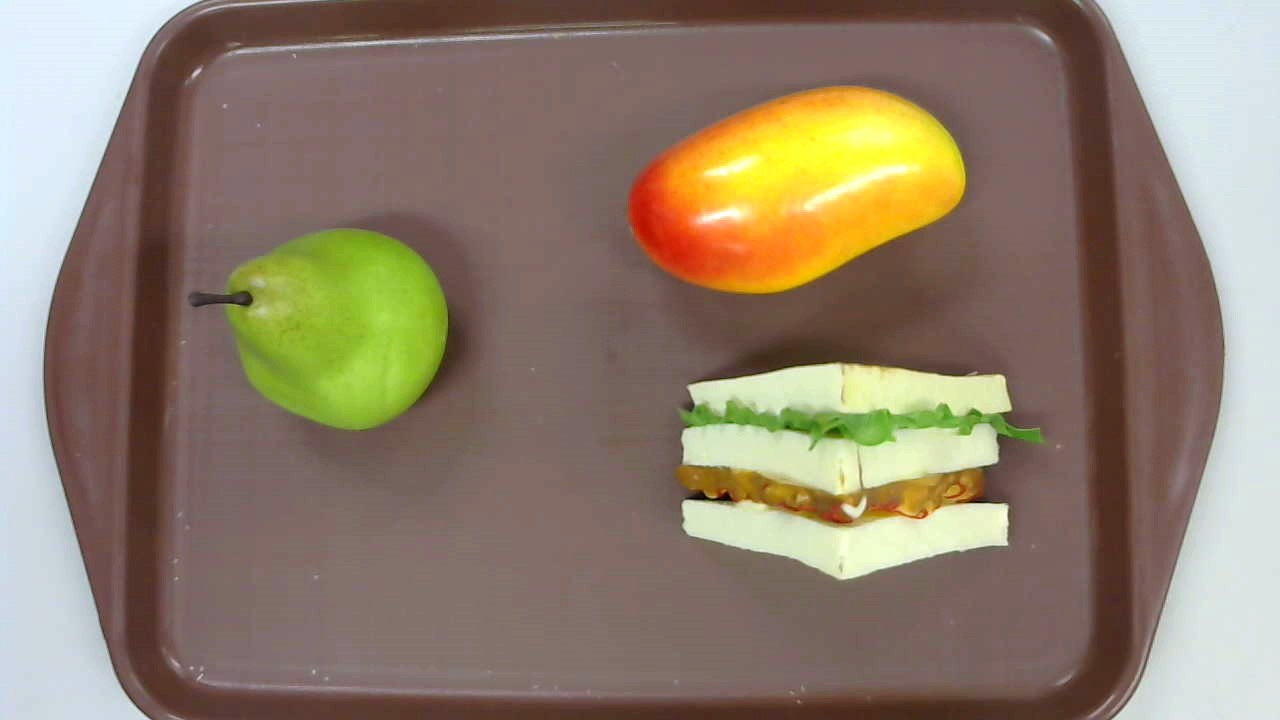green pear: (186, 228, 447, 430)
red mango: (626, 85, 965, 296)
sandwich: (676, 361, 1045, 579)
